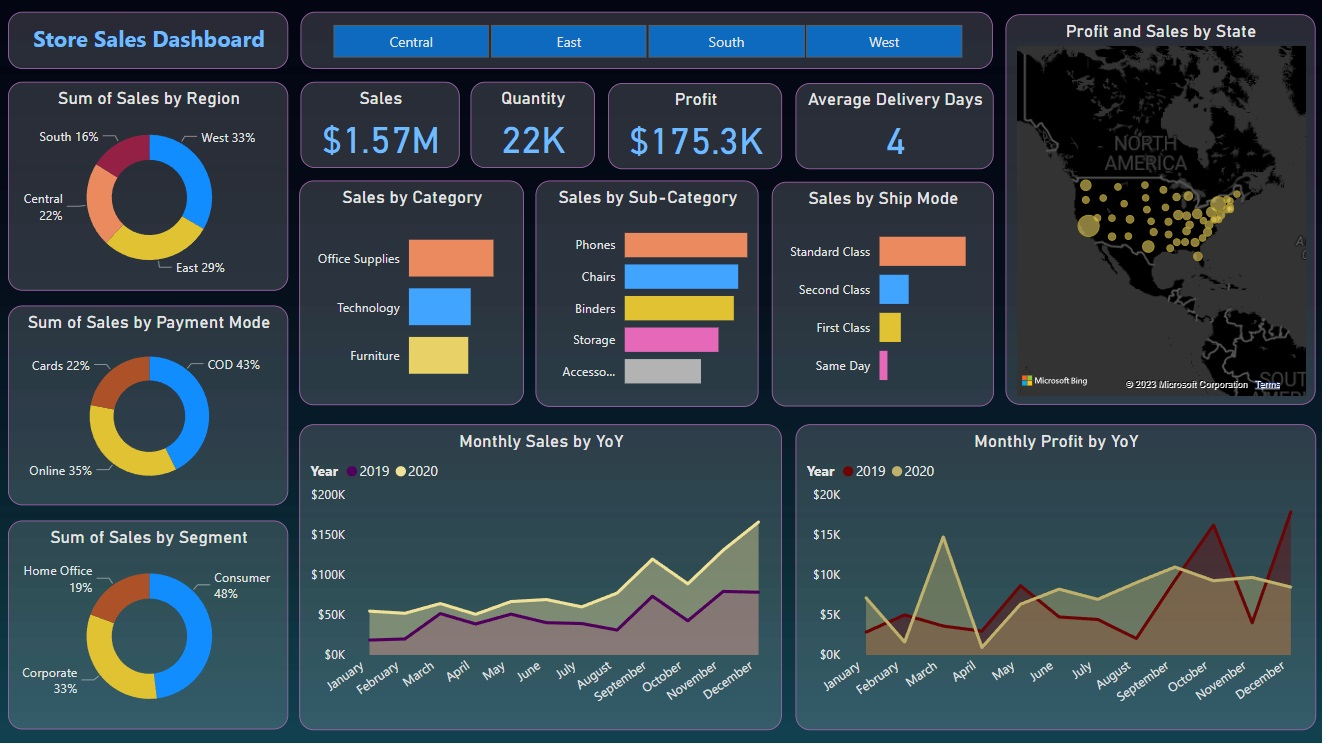

What the dashboard file says about the page in this screenshot:
{"tool":"powerbi","page":{"name":"Page 1","canvas":[1280,720],"ordinal":0},"visuals":[{"type":"clusteredBarChart","title":"Sales by Category","fields":{"Category":["SuperStore_Sales_Dataset.Category"],"Y":["Sum(SuperStore_Sales_Dataset.Sales)"]},"box":[290.8,176.4,216.8,216.8],"z":0},{"type":"clusteredBarChart","title":"Sales by Sub-Category","fields":{"Y":["Sum(SuperStore_Sales_Dataset.Sales)"],"Category":["SuperStore_Sales_Dataset.Sub-Category"]},"box":[518.4,176.4,215.4,218.1],"z":1000},{"type":"clusteredBarChart","title":"Sales by Ship Mode","fields":{"Y":["Sum(SuperStore_Sales_Dataset.Sales)"],"Category":["SuperStore_Sales_Dataset.Ship Mode"]},"box":[746,177.7,214.1,216.8],"z":2000},{"type":"areaChart","title":"Monthly Sales by YoY","fields":{"Category":["SuperStore_Sales_Dataset.Order Date.Variation.Date Hierarchy.Month","SuperStore_Sales_Dataset.Order Date.Variation.Date Hierarchy.Day"],"Y":["Sum(SuperStore_Sales_Dataset.Sales)"],"Series":["SuperStore_Sales_Dataset.Order Date.Variation.Date Hierarchy.Year"]},"box":[290.8,410.7,465.9,294.9],"z":3000},{"type":"areaChart","title":"Monthly Profit by YoY","fields":{"Category":["SuperStore_Sales_Dataset.Order Date.Variation.Date Hierarchy.Month","SuperStore_Sales_Dataset.Order Date.Variation.Date Hierarchy.Day"],"Series":["SuperStore_Sales_Dataset.Order Date.Variation.Date Hierarchy.Year"],"Y":["Sum(SuperStore_Sales_Dataset.Profit)"]},"box":[768.9,410.7,502.3,294.9],"z":4000},{"type":"map","title":"Profit and Sales by State","fields":{"Category":["SuperStore_Sales_Dataset.State"],"Size":["Sum(SuperStore_Sales_Dataset.Sales)"]},"box":[972.2,16.2,298.9,377],"z":5000},{"type":"donutChart","fields":{"Category":["SuperStore_Sales_Dataset.Segment"],"Y":["Sum(SuperStore_Sales_Dataset.Sales)"]},"box":[9.4,503.6,270.7,202],"z":6000},{"type":"donutChart","fields":{"Y":["Sum(SuperStore_Sales_Dataset.Sales)"],"Category":["SuperStore_Sales_Dataset.Payment Mode"]},"box":[9.4,296.2,270.7,192.6],"z":7000},{"type":"slicer","fields":{"Values":["SuperStore_Sales_Dataset.Region"]},"box":[292.2,13.5,667.9,55.2],"z":8000},{"type":"textbox","box":[9.4,13.5,270.7,55.2],"z":9000},{"type":"card","title":"Sales","fields":{"Values":["Sum(SuperStore_Sales_Dataset.Sales)"]},"box":[292.2,80.8,153.5,83.5],"z":10000},{"type":"card","title":"Quantity","fields":{"Values":["Sum(SuperStore_Sales_Dataset.Quantity)"]},"box":[456.5,80.8,119.8,83.5],"z":11000},{"type":"card","title":"Profit","fields":{"Values":["Sum(SuperStore_Sales_Dataset.Profit)"]},"box":[588.4,82.1,168.3,83.5],"z":12000},{"type":"card","title":"Average Delivery Days","fields":{"Values":["Avg(SuperStore_Sales_Dataset.Average Delivery Days)"]},"box":[768.9,82.1,191.2,83.5],"z":13000},{"type":"donutChart","fields":{"Category":["SuperStore_Sales_Dataset.Region"],"Y":["Sum(SuperStore_Sales_Dataset.Sales)"]},"box":[9.4,80.8,270.7,202],"z":14000}]}

Visuals, with their boxes in screenshot pixels (x1, y1, x2, y2), scaled from the page's 1280x720 canvas onto the 1326x744 screenshot:
"Sales by Category" clusteredBarChart: crop(301, 182, 526, 406)
"Sales by Sub-Category" clusteredBarChart: crop(537, 182, 760, 408)
"Sales by Ship Mode" clusteredBarChart: crop(773, 184, 995, 408)
"Monthly Sales by YoY" areaChart: crop(301, 424, 784, 729)
"Monthly Profit by YoY" areaChart: crop(797, 424, 1317, 729)
"Profit and Sales by State" map: crop(1007, 17, 1317, 406)
donutChart - SuperStore_Sales_Dataset.Segment x Sum(SuperStore_Sales_Dataset.Sales): crop(10, 520, 290, 729)
donutChart - Sum(SuperStore_Sales_Dataset.Sales) x SuperStore_Sales_Dataset.Payment Mode: crop(10, 306, 290, 505)
slicer - SuperStore_Sales_Dataset.Region: crop(303, 14, 995, 71)
textbox: crop(10, 14, 290, 71)
"Sales" card: crop(303, 83, 462, 170)
"Quantity" card: crop(473, 83, 597, 170)
"Profit" card: crop(610, 85, 784, 171)
"Average Delivery Days" card: crop(797, 85, 995, 171)
donutChart - SuperStore_Sales_Dataset.Region x Sum(SuperStore_Sales_Dataset.Sales): crop(10, 83, 290, 292)
